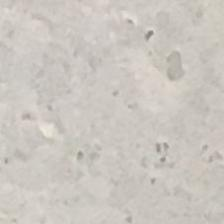Non_Crack: (16, 15, 204, 222)
